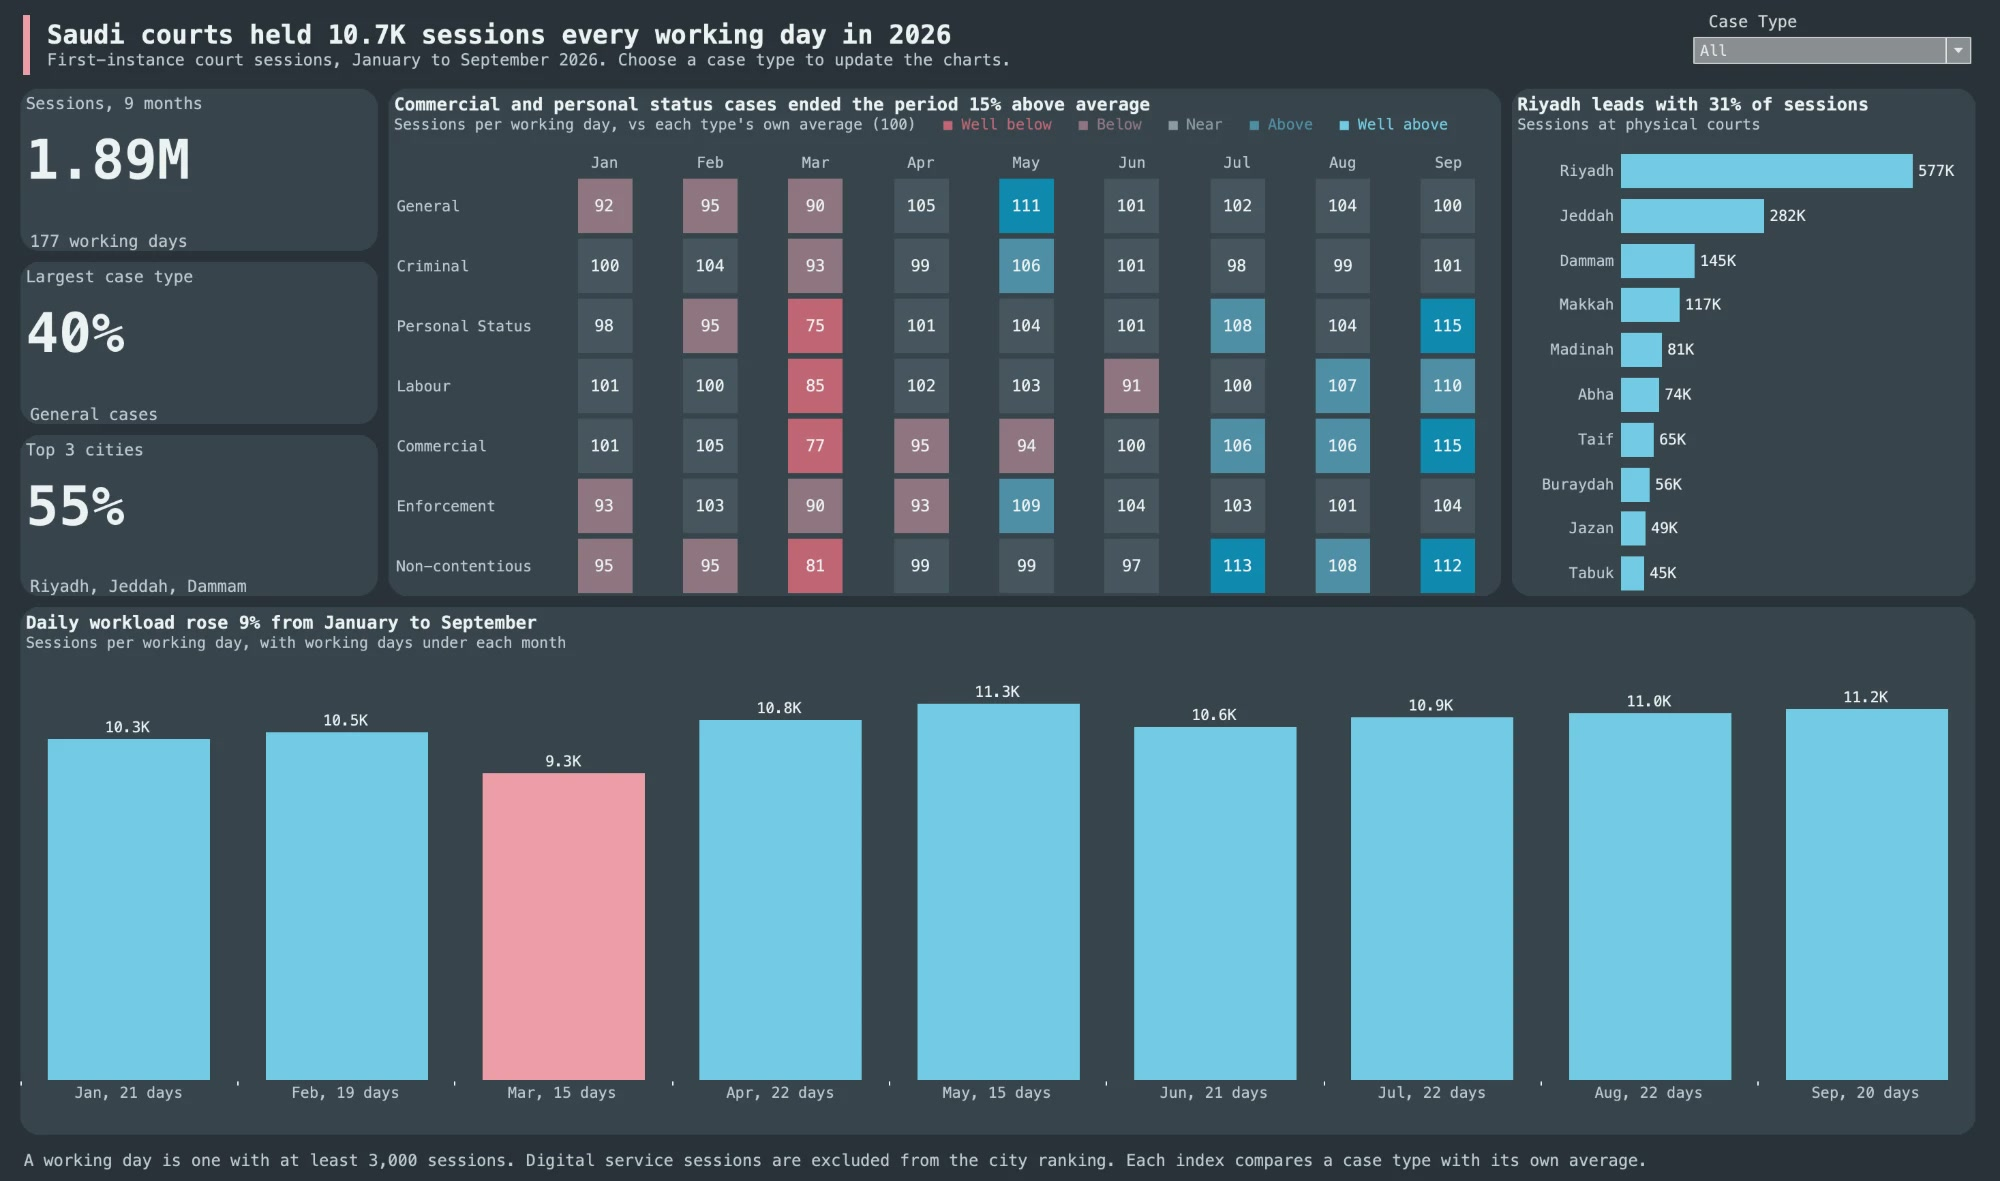

The dashboard page shown, as its layout file describes it:
{"tool":"tableau","page":{"name":"Court Sessions Dashboard","canvas":[1000,1000],"units":"permille","ordinal":0},"visuals":[{"type":"blank","box":[12.5,20.2,3.1,60.6]},{"type":"text","box":[15.6,20.2,840.6,60.6]},{"type":"parameter","param":"[Parameters].[Parameter 1]","box":[856.2,20.2,131.2,60.6]},{"type":"worksheet","title":"KPI Sessions","mark":"Automatic","box":[12.5,80.8,187.5,175.1]},{"type":"worksheet","title":"Heatmap","mark":"Square","rows":["case_type"],"cols":["month_label"],"box":[200,80.8,562.5,525.2]},{"type":"worksheet","title":"Cities","mark":"Bar","rows":["city"],"cols":["Calculation_3000"],"box":[762.5,80.8,225,525.2]},{"type":"worksheet","title":"KPI Type","mark":"Automatic","box":[12.5,255.9,187.5,175.1]},{"type":"worksheet","title":"KPI Cities","mark":"Automatic","box":[12.5,431,187.5,175.1]},{"type":"worksheet","title":"Daily","mark":"Bar","rows":["Calculation_3001"],"cols":["month_days"],"box":[12.5,606.1,975,343.4]},{"type":"text","box":[12.5,969.7,975,22.2]}]}

Visuals, with their boxes on the dashboard's canvas, which has no fixed pixel size, in thousandths of its width and height (x1, y1, x2, y2). These are canvas units, not pixel positions in the 2000x1181 screenshot, which may show the page scaled, cropped or inside an application window:
blank: 12,20,16,81
text: 16,20,856,81
parameter: 856,20,987,81
"KPI Sessions" worksheet: 12,81,200,256
"Heatmap" worksheet (Square marks): 200,81,762,606
"Cities" worksheet (Bar marks): 762,81,988,606
"KPI Type" worksheet: 12,256,200,431
"KPI Cities" worksheet: 12,431,200,606
"Daily" worksheet (Bar marks): 12,606,988,950
text: 12,970,988,992
